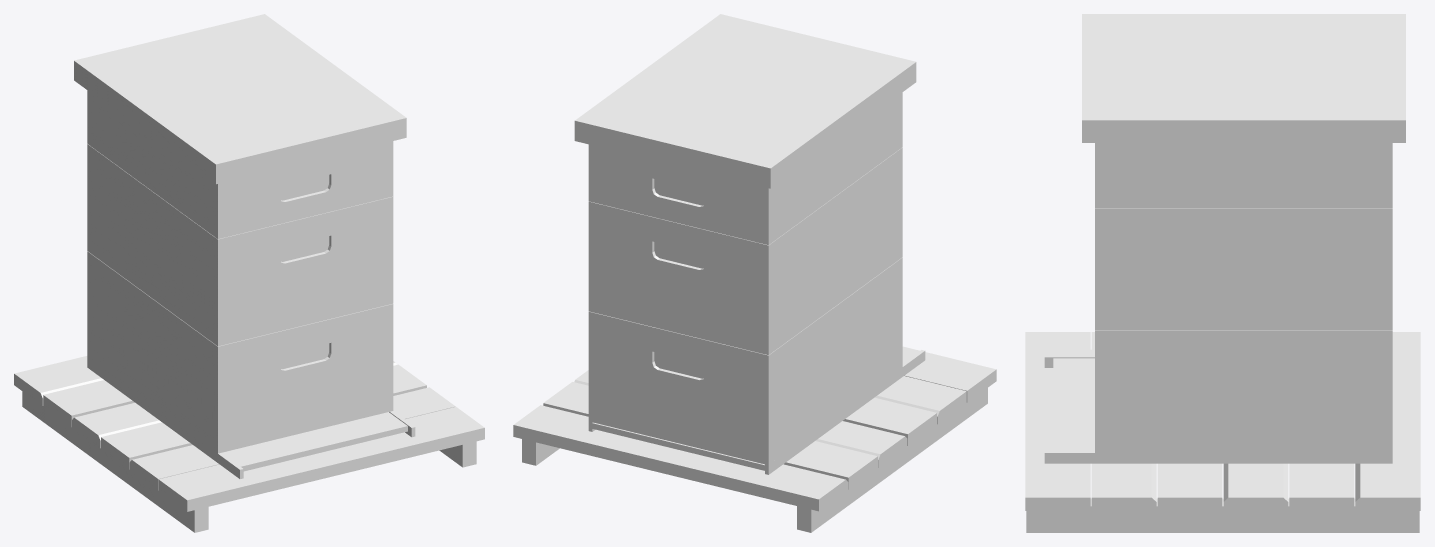
File: Bld_Beehive_04.glb
3 views of the same model, side by side, from view 1: azimuth 30°, elevation 25°; view 2: azimuth 150°, elevation 25°; view 3: azimuth 270°, elevation 25° (orthographic). The views are drawn at different scales.
Visible parts, largest first — view 1: Bld_Beehive_04; view 2: Bld_Beehive_04; view 3: Bld_Beehive_04.
Part boxes in pixels (x1=…): Bld_Beehive_04: x1=14, y1=14, x2=484, y2=532; Bld_Beehive_04: x1=513, y1=14, x2=996, y2=532; Bld_Beehive_04: x1=1025, y1=14, x2=1420, y2=532.
Size of the model in its own units: 1.05 by 1.15 by 1.06.
1 material, 1 textured.
